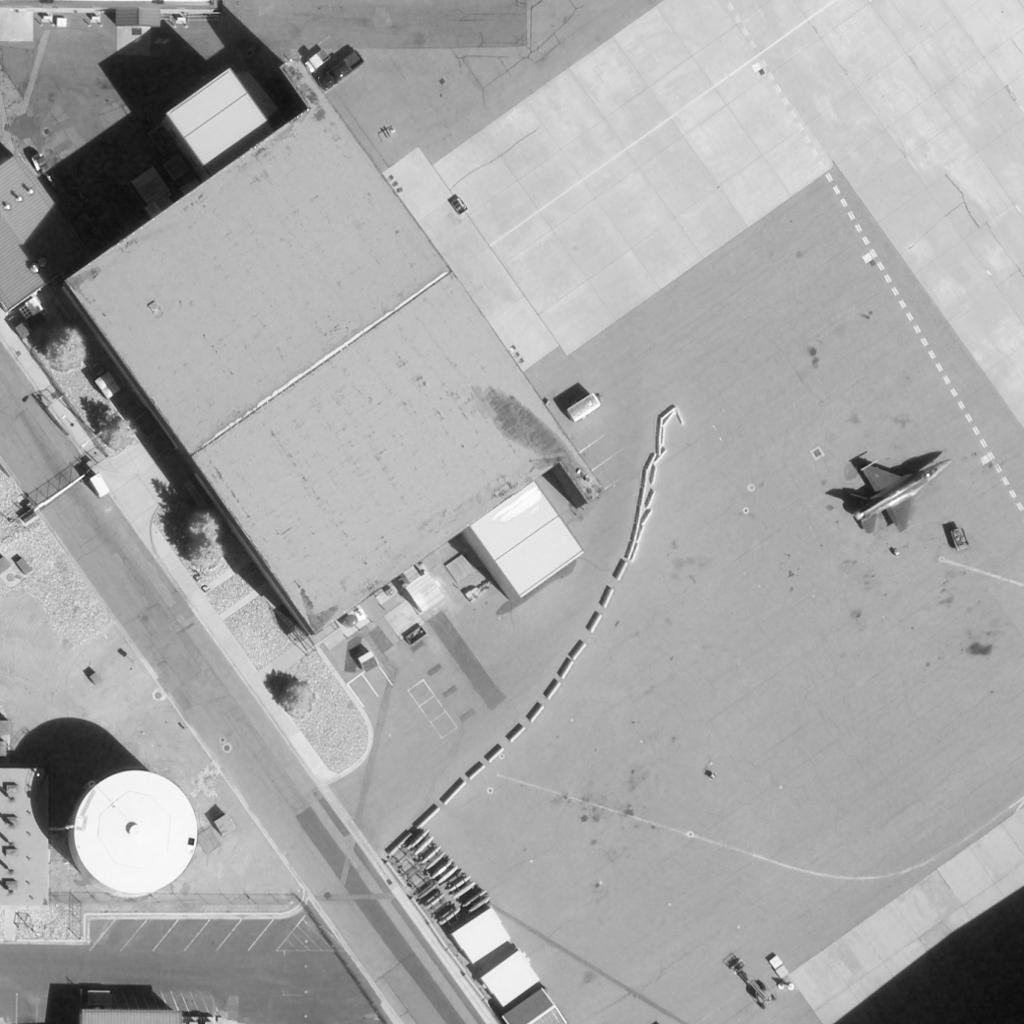vehicle: (725, 958, 779, 1010), (316, 52, 366, 94), (303, 49, 329, 75)
